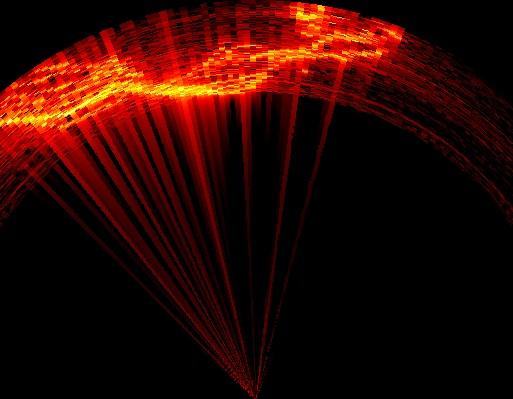shipwreck: (0, 3, 358, 134), (301, 26, 401, 64)
